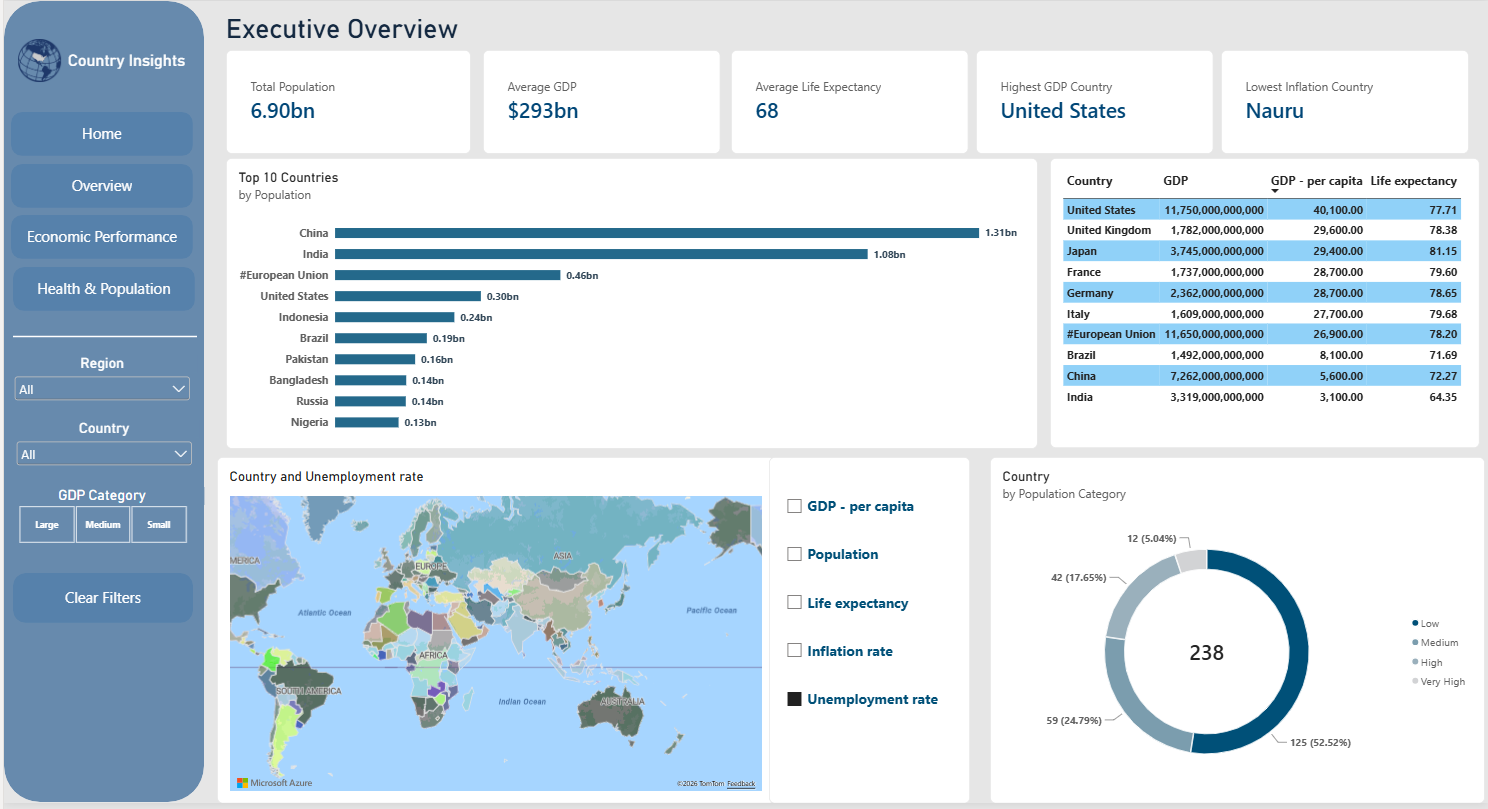

The dashboard page shown, as its layout file describes it:
{"tool":"powerbi","page":{"name":"Executive Overview","canvas":[2000,1080],"ordinal":1},"visuals":[{"type":"shape","box":[0,0,269.5,1079.5],"z":0,"group":"g1"},{"type":"cardVisual","fields":{"Data":["DAX measures.Average GDP"]},"box":[645.6,66,320,140],"z":0},{"type":"image","box":[0,51.2,95.7,58],"z":1000,"group":"g1"},{"type":"cardVisual","fields":{"Data":["DAX measures.Highest GDP Country"]},"box":[1310,66,320,140],"z":1000},{"type":"cardVisual","fields":{"Data":["DAX measures.Lowest Inflation Country"]},"box":[1640.2,66,334.2,140.2],"z":2000},{"type":"textbox","title":"Country Insights","box":[86.3,67.4,168.5,39.1],"z":2000,"group":"g1"},{"type":"cardVisual","fields":{"Data":["DAX measures.Total Population"]},"box":[299.2,66,330.2,140.2],"z":3000},{"type":"shape","box":[12.1,301.9,248,300.5],"z":3000,"group":"g1"},{"type":"cardVisual","fields":{"Data":["DAX measures.Average Life Expectancy"]},"box":[979.8,66,320,140],"z":4000},{"type":"group","id":"g1","title":"Group 1","box":[0,0,269.5,1079.5],"z":5000},{"type":"actionButton","box":[9.4,149.6,245.3,59.3],"z":6000},{"type":"actionButton","box":[9.4,219.7,245.3,59.3],"z":7000},{"type":"actionButton","box":[9.4,288.4,245.3,59.3],"z":8000},{"type":"actionButton","box":[12.1,358.5,245.3,59.3],"z":9000},{"type":"slicer","title":"Region","fields":{"Values":["Country Data Comparison.Country_Region_Mapping.Region"]},"box":[9.4,477.1,250.7,74.1],"z":10000},{"type":"slicer","title":"Country","fields":{"Values":["Country Data Comparison.Country"]},"box":[12.1,564.7,250.7,74.1],"z":11000},{"type":"slicer","title":"GDP Category","fields":{"Values":["Country Data Comparison.GDP Category"]},"box":[0,655,269.5,76.8],"z":12000},{"type":"textbox","title":"Executive Overview","box":[299.2,16.2,411.1,51.2],"z":13000},{"type":"clusteredBarChart","title":"Top 10 Countries ","fields":{"Category":["Country Data Comparison.Country"],"Y":["Sum(Country Data Comparison.Population)"]},"box":[299.4,211.2,1094.2,392.1],"z":14000},{"type":"donutChart","title":" Country","fields":{"Category":["Country Data Comparison.Population Category"],"Y":["CountNonNull(Country Data Comparison.Country)"]},"box":[1328.3,614,667.2,466.6],"z":15000},{"type":"tableEx","fields":{"Values":["Country Data Comparison.Country","Avg(Country Data Comparison.GDP)","Avg(Country Data Comparison.GDP - per capita)","Avg(Country Data Comparison.Life expectancy at birth(years))"]},"box":[1410.3,211.2,579,390.6],"z":16000},{"type":"actionButton","box":[12.1,770.9,242.6,67.4],"z":17000},{"type":"filledMap","fields":{"Category":["Country_Region_Mapping.Country"],"Series":["Country Data Comparison.GDP - per capita"]},"box":[287.2,614,752.3,466.6],"z":18000},{"type":"slicer","fields":{"Values":["Parameter.Parameter"]},"box":[1030.4,614,270.5,466.6],"z":19000}]}

Visuals, with their boxes on the page's 2000x1080 design canvas (x1, y1, x2, y2). These are canvas units, not pixel positions in the 1488x809 screenshot, which may show the page scaled, cropped or inside an application window:
shape: [0, 0, 270, 1080]
cardVisual - DAX measures.Average GDP: [646, 66, 966, 206]
image: [0, 51, 96, 109]
cardVisual - DAX measures.Highest GDP Country: [1310, 66, 1630, 206]
cardVisual - DAX measures.Lowest Inflation Country: [1640, 66, 1974, 206]
"Country Insights" textbox: [86, 67, 255, 106]
cardVisual - DAX measures.Total Population: [299, 66, 629, 206]
shape: [12, 302, 260, 602]
cardVisual - DAX measures.Average Life Expectancy: [980, 66, 1300, 206]
"Group 1" group: [0, 0, 270, 1080]
actionButton: [9, 150, 255, 209]
actionButton: [9, 220, 255, 279]
actionButton: [9, 288, 255, 348]
actionButton: [12, 358, 257, 418]
"Region" slicer: [9, 477, 260, 551]
"Country" slicer: [12, 565, 263, 639]
"GDP Category" slicer: [0, 655, 270, 732]
"Executive Overview" textbox: [299, 16, 710, 67]
"Top 10 Countries " clusteredBarChart: [299, 211, 1394, 603]
" Country" donutChart: [1328, 614, 1996, 1081]
tableEx - Country Data Comparison.Country x Avg(Country Data Comparison.GDP): [1410, 211, 1989, 602]
actionButton: [12, 771, 255, 838]
filledMap - Country_Region_Mapping.Country x Country Data Comparison.GDP - per capita: [287, 614, 1040, 1081]
slicer - Parameter.Parameter: [1030, 614, 1301, 1081]
